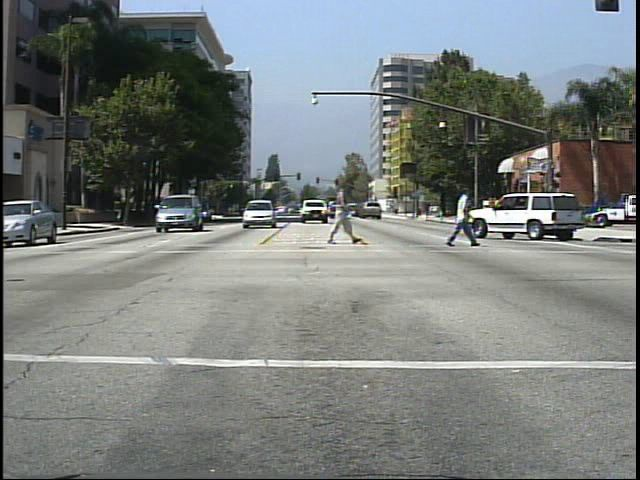person: (446, 178, 483, 254), (320, 176, 357, 250)
